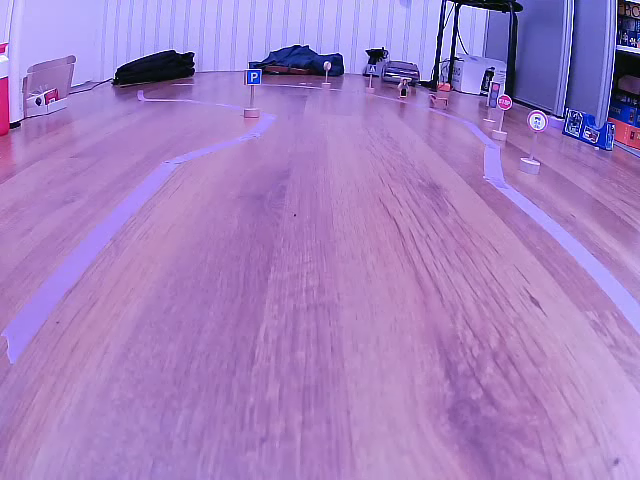fietspad: (527, 109, 549, 135)
parkeerbord: (244, 67, 262, 87)
stopbord: (497, 93, 512, 112)
